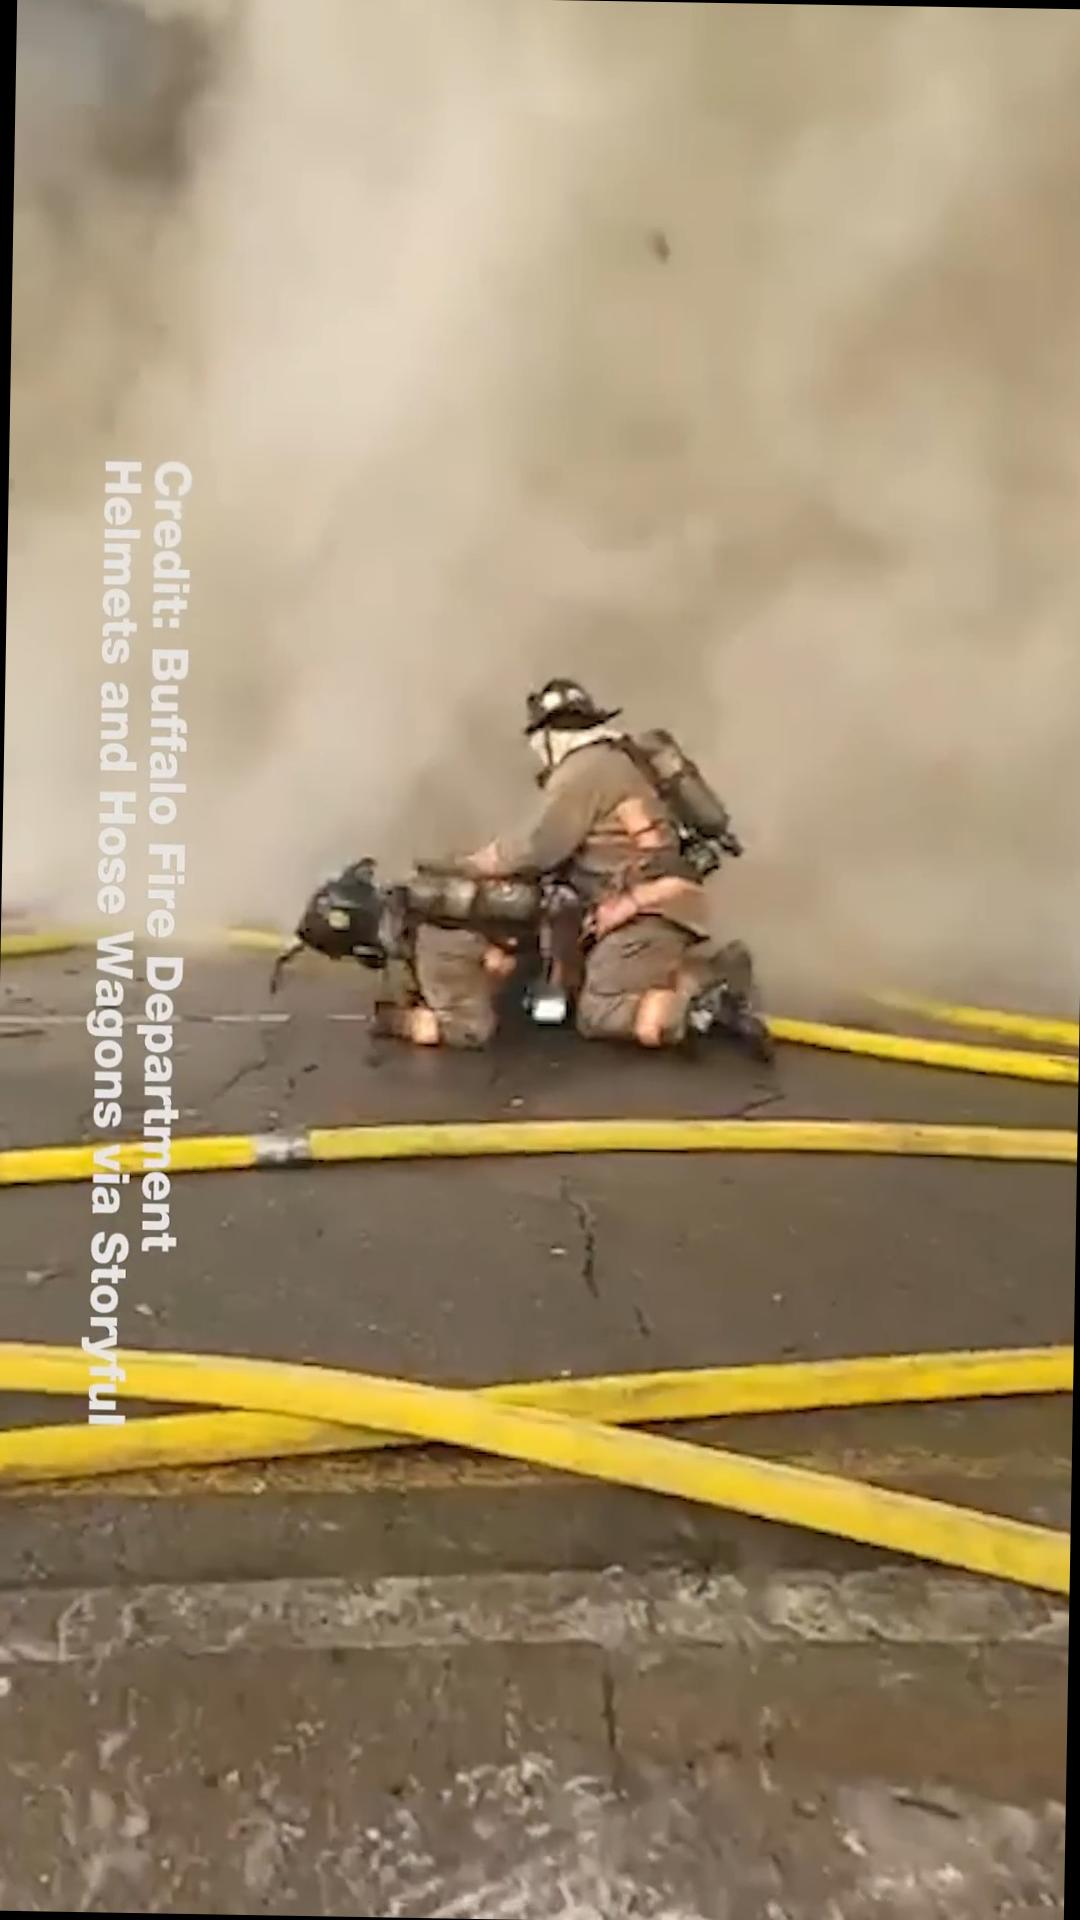Smoke: (222, 0, 1080, 1019)
